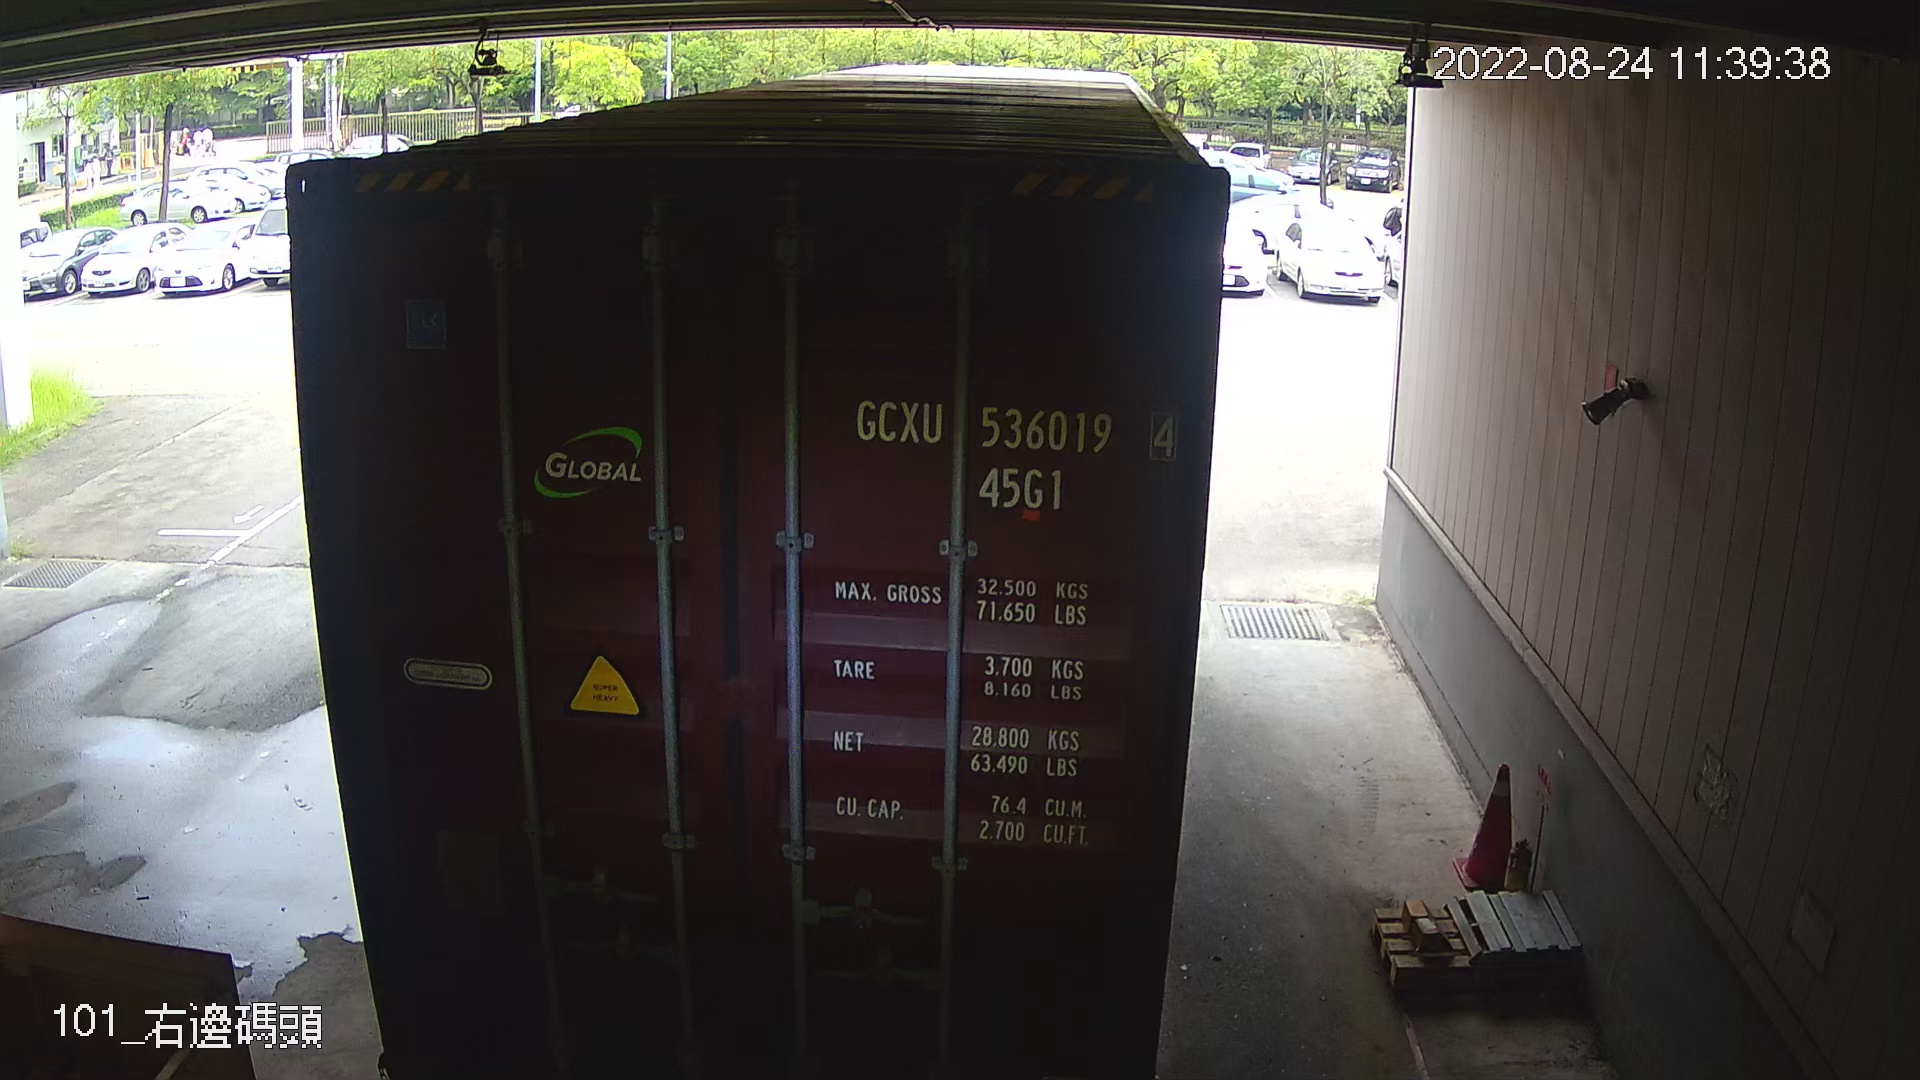container: (825, 373, 1188, 529)
